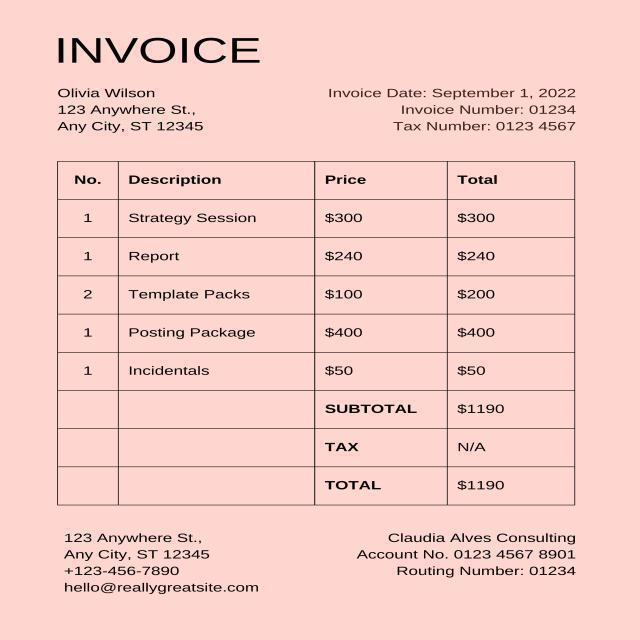ROI: (51, 162, 577, 387), (313, 391, 538, 503), (59, 523, 272, 612), (345, 519, 589, 590), (313, 82, 614, 139), (55, 83, 218, 138), (50, 28, 266, 69)
